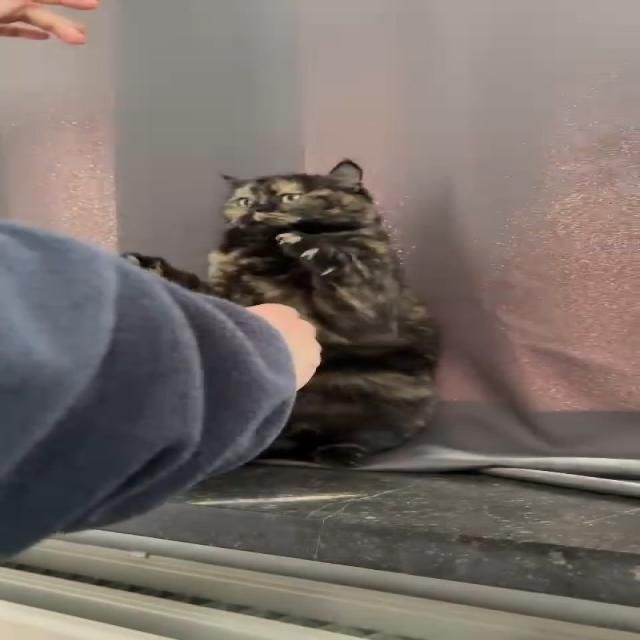authorized: (120, 158, 441, 466)
